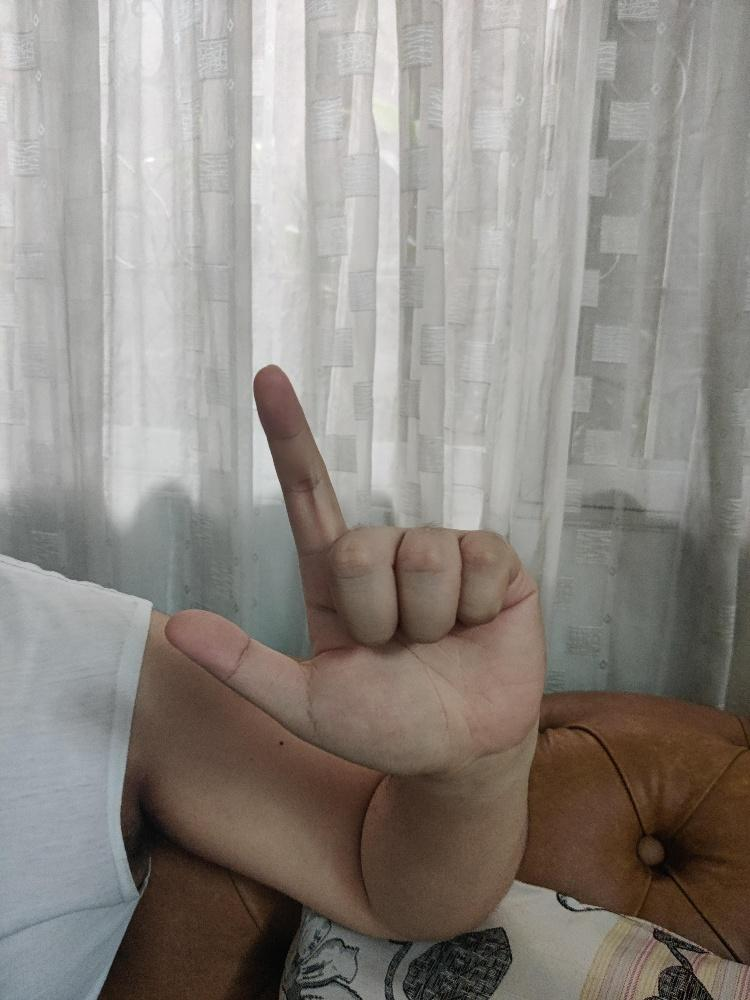l: (161, 360, 548, 774)
